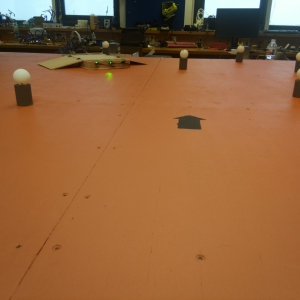obstacle: (12, 68, 33, 107), (179, 49, 189, 71), (292, 73, 300, 100), (235, 46, 245, 62), (101, 41, 110, 53), (295, 52, 300, 70)
side: (85, 60, 130, 69)
slope: (38, 57, 83, 70)
start: (174, 114, 208, 132)
